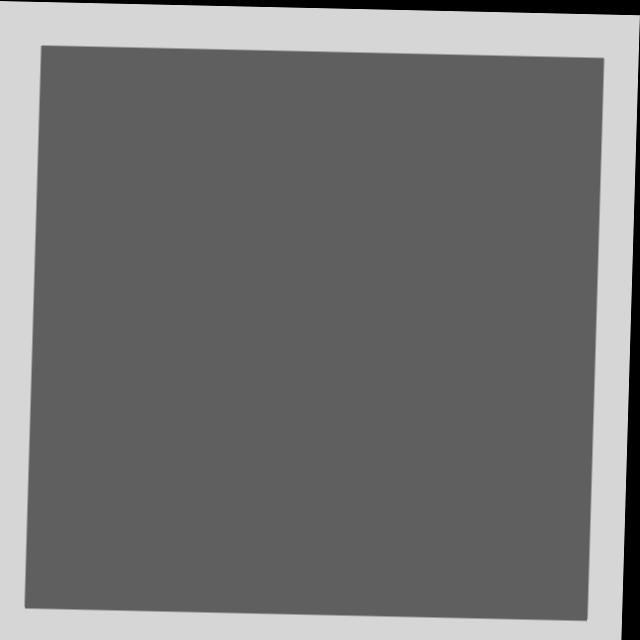qr_code: (29, 45, 604, 617)
